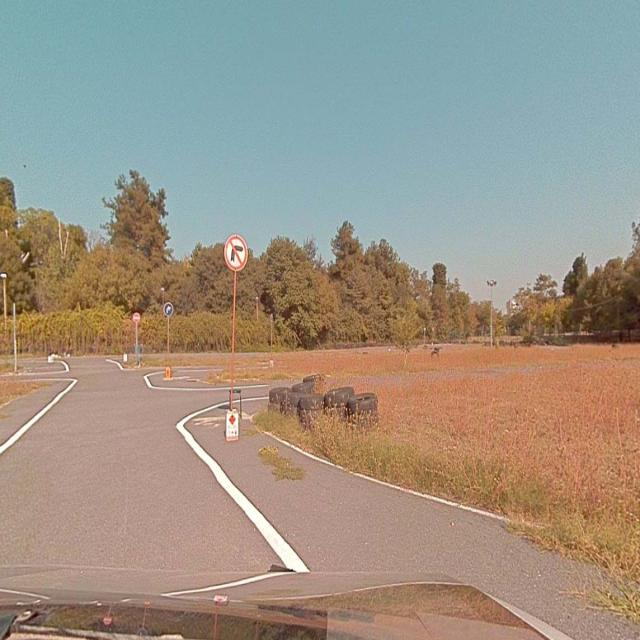girisyok: (132, 312, 140, 323)
sag: (164, 303, 173, 316)
sagadonulmez: (224, 234, 247, 270)
